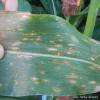Corn Gray leaf spot: (4, 9, 99, 97)
